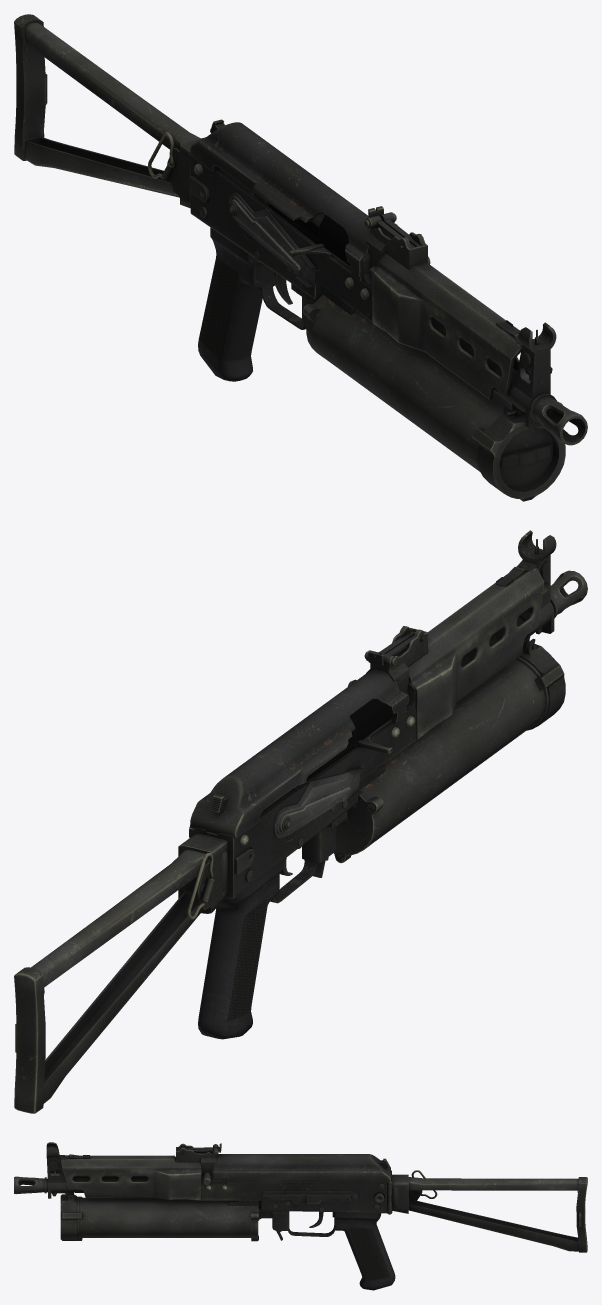
The model's file is bizon.glb.
The picture shows the model from 3 angles, top to bottom: view 1: azimuth 30°, elevation 25°; view 2: azimuth 150°, elevation 25°; view 3: azimuth 270°, elevation 25°; orthographic projection. The views are drawn at different scales.
Parts seen in each view (by area): view 1: bizon; view 2: bizon; view 3: bizon.
Part boxes in pixels (x1=…): bizon: x1=14, y1=14, x2=587, y2=501; bizon: x1=14, y1=530, x2=587, y2=1113; bizon: x1=14, y1=1142, x2=587, y2=1290.
Bounding box in the file's own units: 2.77 × 8.19 × 29.74.
Materials: 1 (1 with a texture image).
